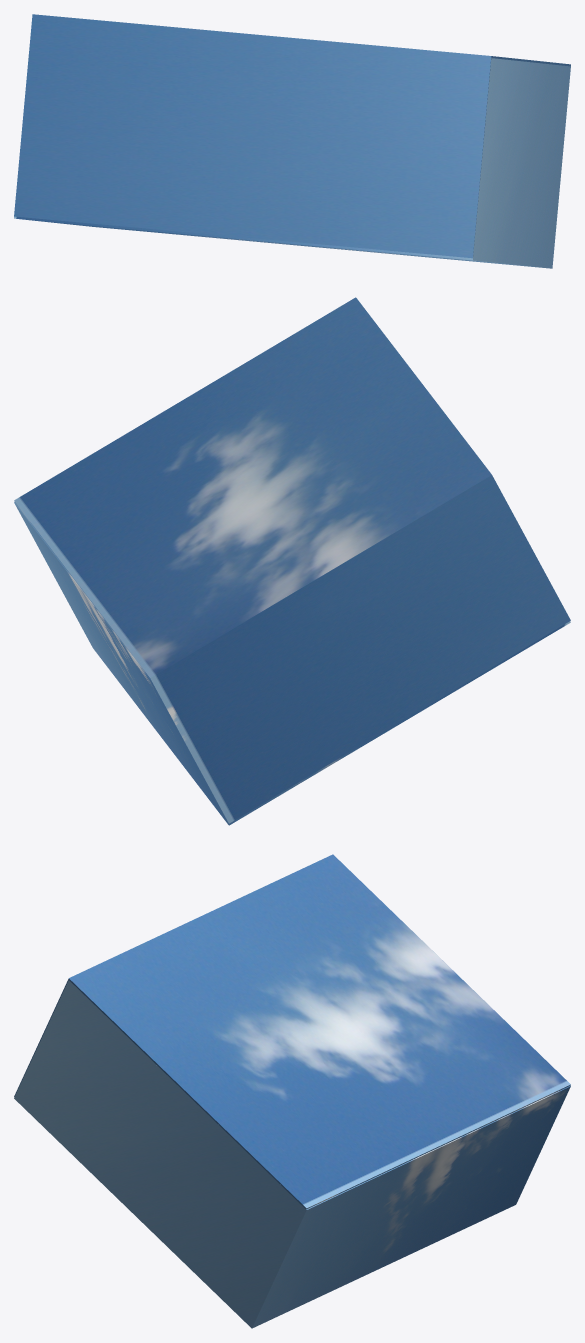
The model's file is sky.obj.
3 renders of one model, top to bottom at view 1: azimuth 30°, elevation 25°; view 2: azimuth 150°, elevation 25°; view 3: azimuth 270°, elevation 25°, orthographic. The views are drawn at different scales.
Visible parts, largest first — view 1: Cube_Cube.001; view 2: Cube_Cube.001; view 3: Cube_Cube.001.
Part boxes in pixels (bbox=[...]): Cube_Cube.001: bbox=[14, 14, 570, 268]; Cube_Cube.001: bbox=[14, 297, 570, 825]; Cube_Cube.001: bbox=[14, 854, 570, 1328].
Size of the model in its own units: 282 by 157 by 282.
